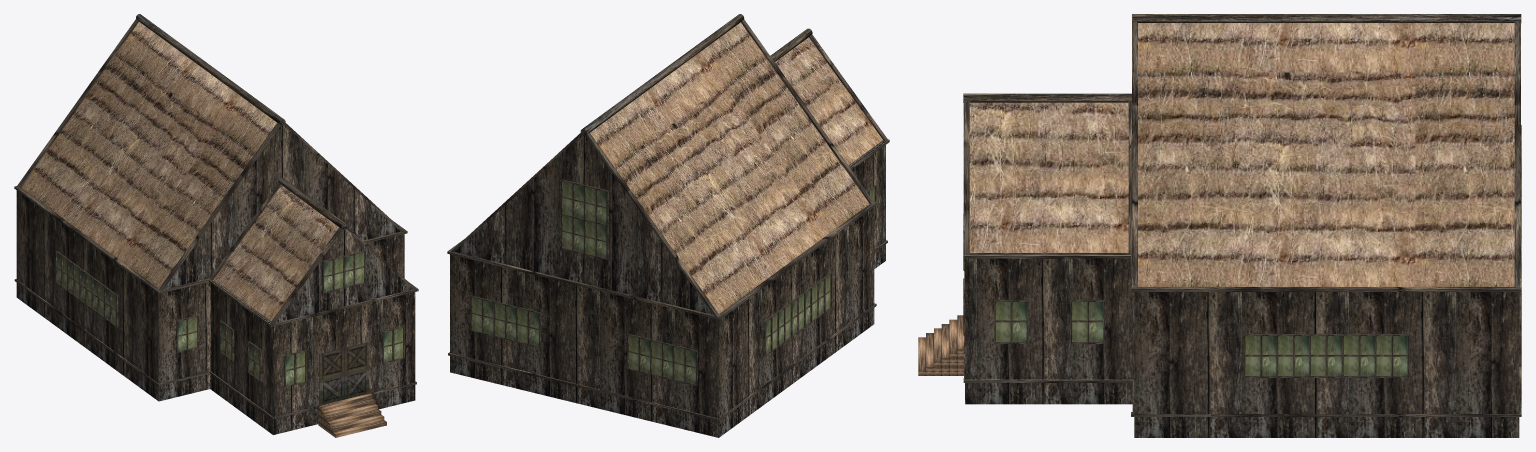
Rendered from Pavilion.FBX.
3 views of the same model, side by side, from view 1: azimuth 30°, elevation 25°; view 2: azimuth 150°, elevation 25°; view 3: azimuth 270°, elevation 25° (orthographic). The views are drawn at different scales.
Parts seen in each view (by area): view 1: Bina; view 2: Bina; view 3: Bina.
Boxes of the visible parts, left/top/right/bottom form: Bina: left=14, top=14, right=418, bottom=437; Bina: left=447, top=14, right=889, bottom=437; Bina: left=918, top=14, right=1521, bottom=437.
Size of the model in its own units: 1048 by 1622 by 1021.
5 materials, 5 textured.
